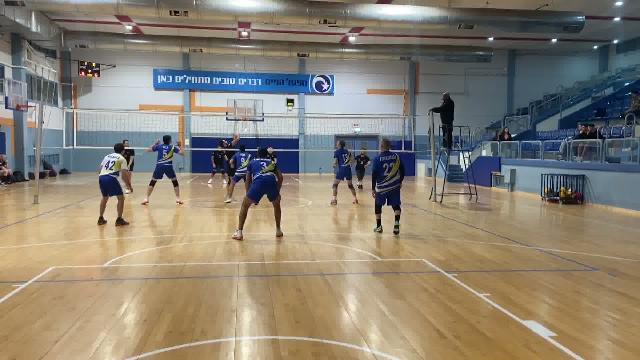ball: (231, 132, 239, 141)
